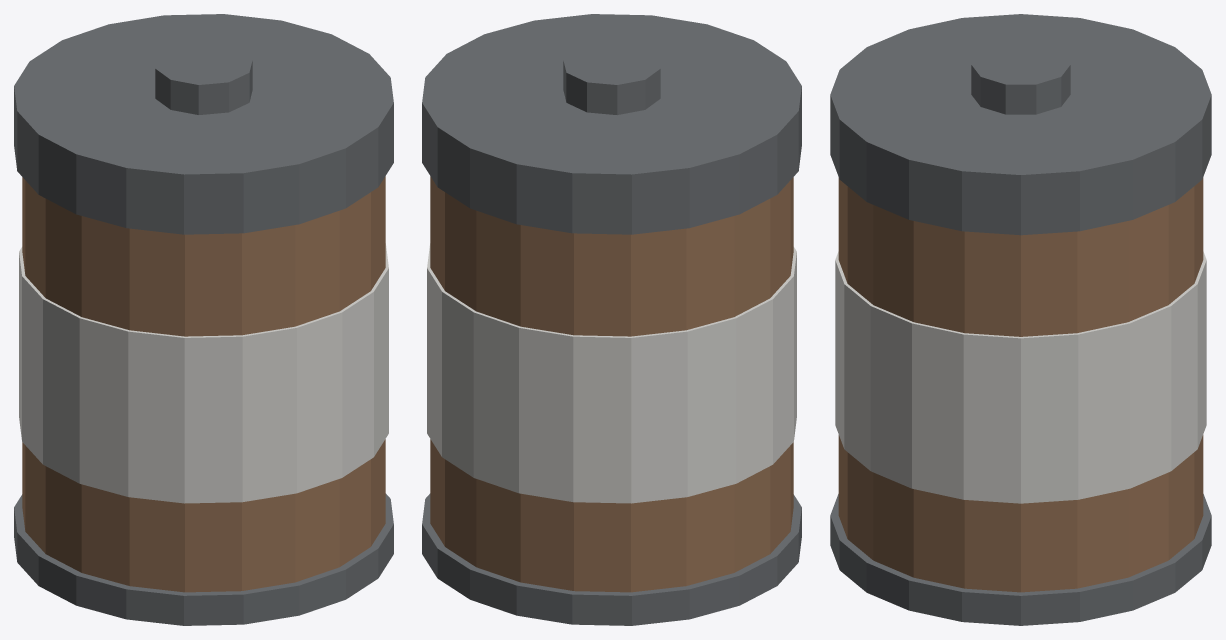
The model's file is kit_seed_can.glb.
3 views of the same model, side by side, from view 1: azimuth 30°, elevation 25°; view 2: azimuth 150°, elevation 25°; view 3: azimuth 270°, elevation 25° (orthographic).
Visible parts, largest first — view 1: body, lid, label, rim_b, knob; view 2: body, lid, label, rim_b, knob; view 3: body, lid, label, rim_b, knob.
Part boxes in pixels (x1=…): body: x1=22, y1=176, x2=385, y2=592; lid: x1=14, y1=14, x2=393, y2=234; label: x1=19, y1=243, x2=388, y2=503; rim_b: x1=14, y1=493, x2=393, y2=625; knob: x1=155, y1=43, x2=252, y2=114; body: x1=430, y1=176, x2=793, y2=592; lid: x1=422, y1=14, x2=801, y2=234; label: x1=427, y1=243, x2=796, y2=503; rim_b: x1=422, y1=493, x2=801, y2=625; knob: x1=563, y1=43, x2=660, y2=114; body: x1=838, y1=177, x2=1203, y2=592; lid: x1=830, y1=14, x2=1211, y2=235; label: x1=835, y1=251, x2=1206, y2=503; rim_b: x1=830, y1=494, x2=1211, y2=625; knob: x1=971, y1=44, x2=1070, y2=114.
Bounding box in the file's own units: 0.23 × 0.32 × 0.23.
